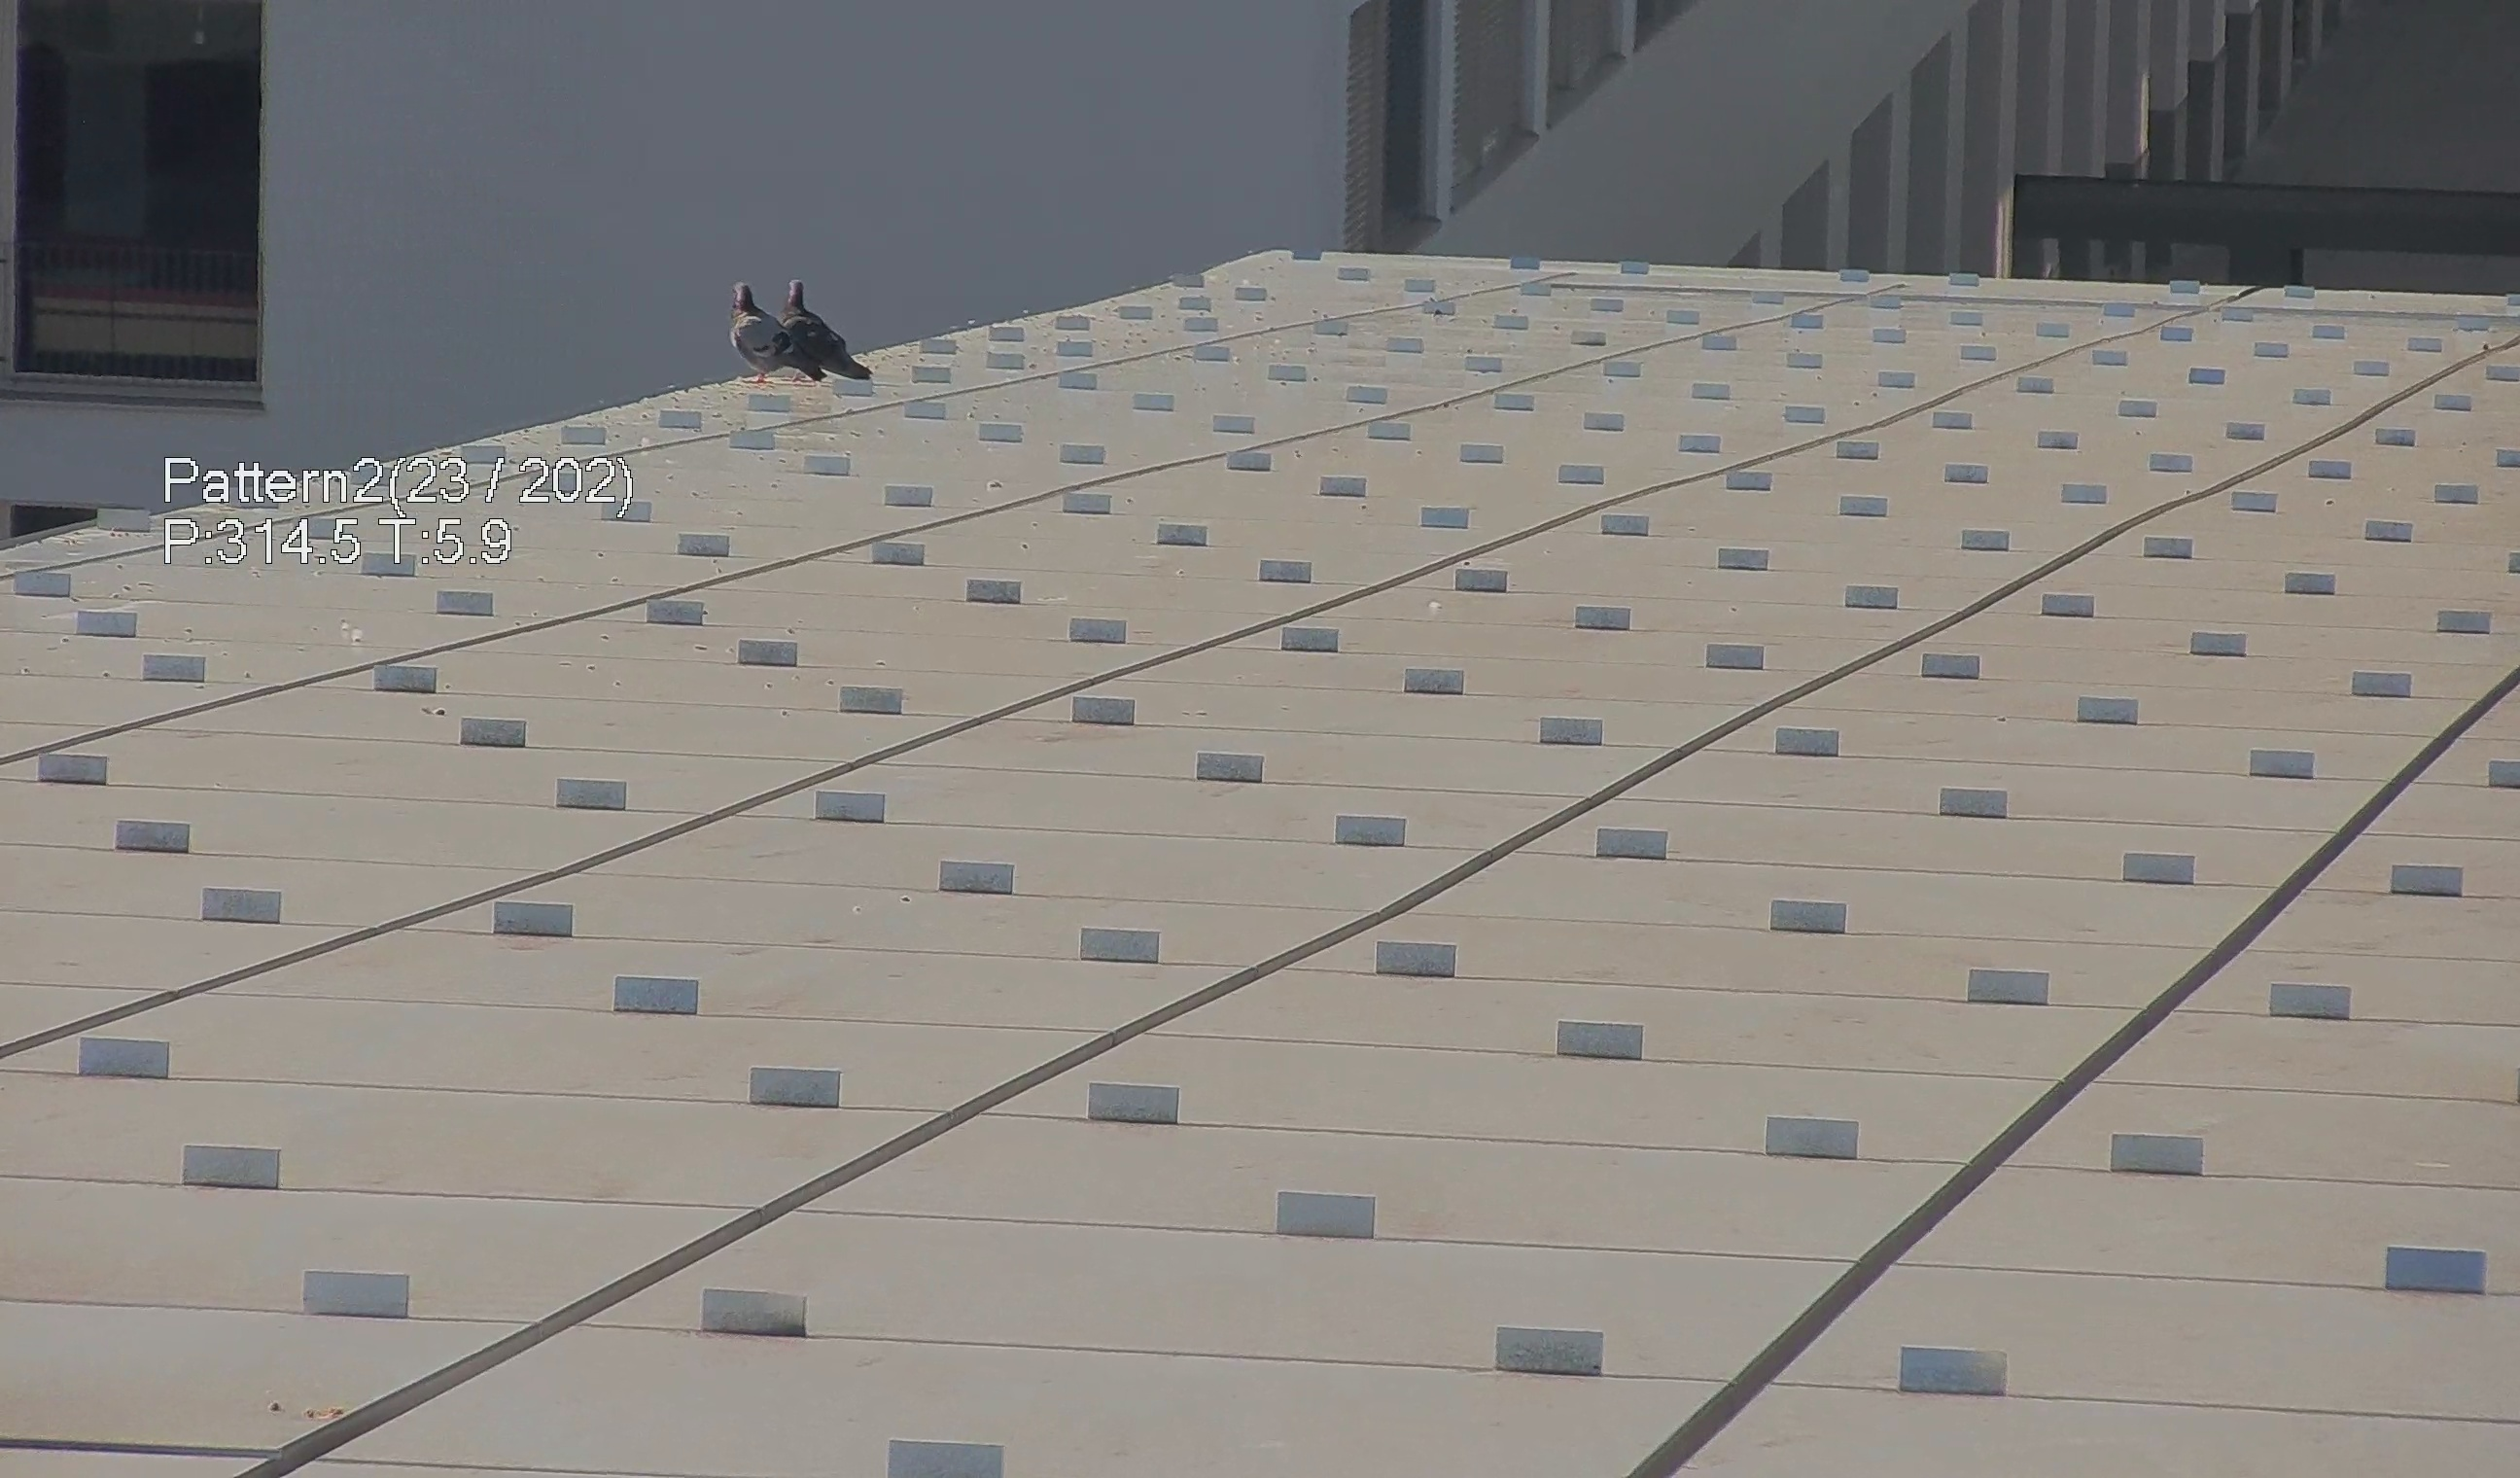Pigeon: (712, 278, 876, 389), (774, 274, 878, 384)
